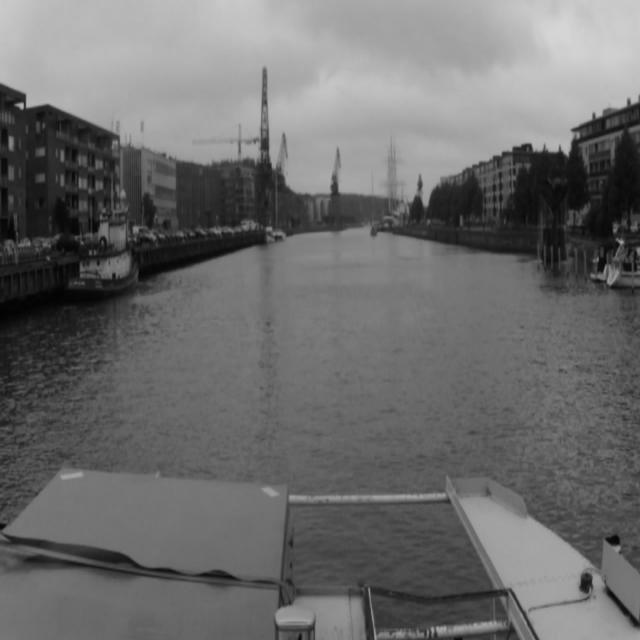ship: (73, 199, 137, 303), (382, 140, 409, 228), (272, 158, 286, 245), (371, 226, 379, 236)
